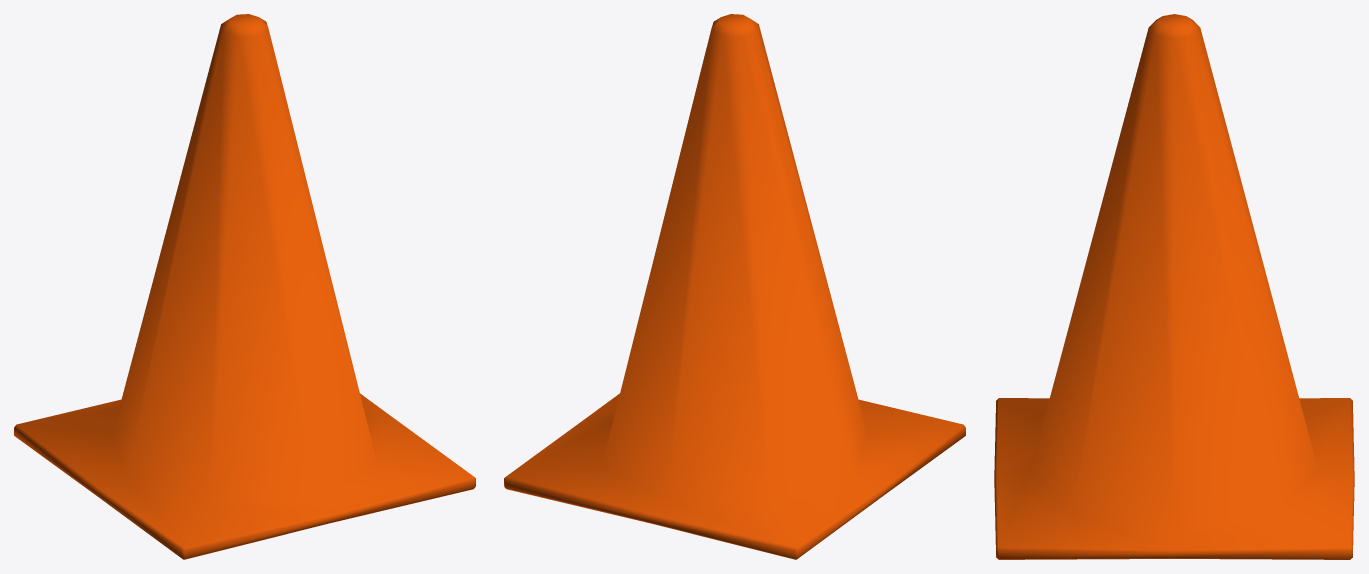
File: TrafficPilon1_v1.fbx
The picture shows the model from 3 angles, left to right: view 1: azimuth 30°, elevation 25°; view 2: azimuth 150°, elevation 25°; view 3: azimuth 270°, elevation 25°; orthographic projection. The views are drawn at different scales.
Parts seen in each view (by area): view 1: Cylinder.159; view 2: Cylinder.159; view 3: Cylinder.159.
Boxes of the visible parts, x1=… form: Cylinder.159: x1=14, y1=14, x2=475, y2=559; Cylinder.159: x1=504, y1=14, x2=965, y2=559; Cylinder.159: x1=994, y1=14, x2=1354, y2=559.
Bounding box in the file's own units: 177 × 252 × 177.
